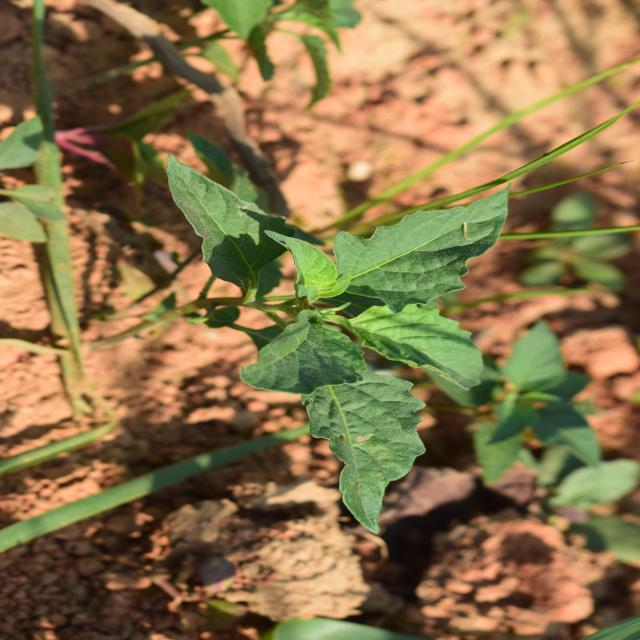Black_nightshade: (178, 138, 488, 460)
